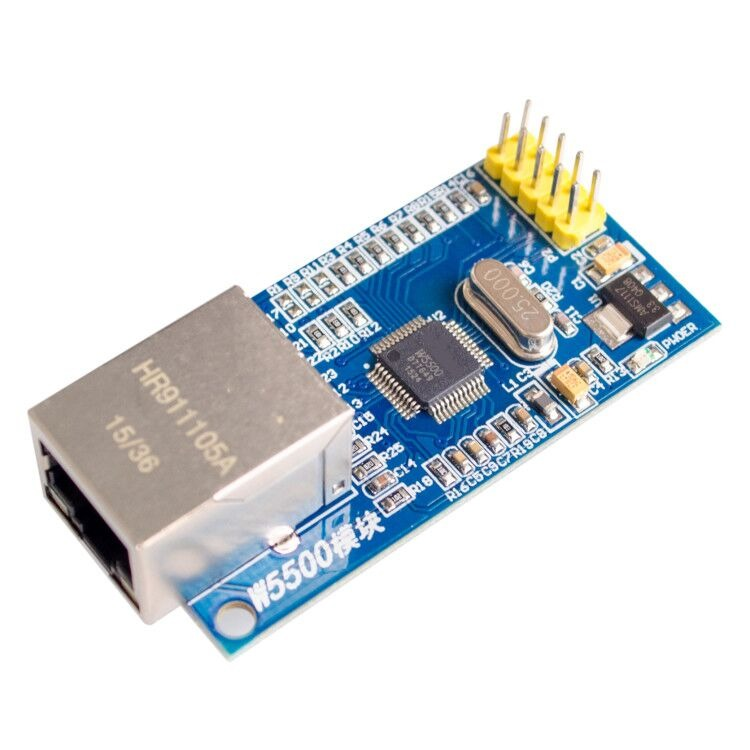Ethernet-W5500: (6, 97, 743, 710)
